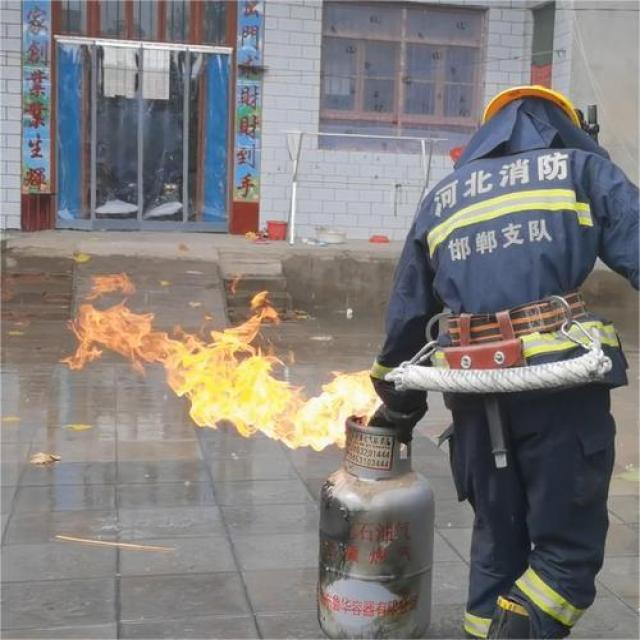Fire: (66, 302, 370, 447)
